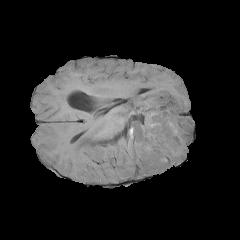glioma: (58, 78, 193, 178)
